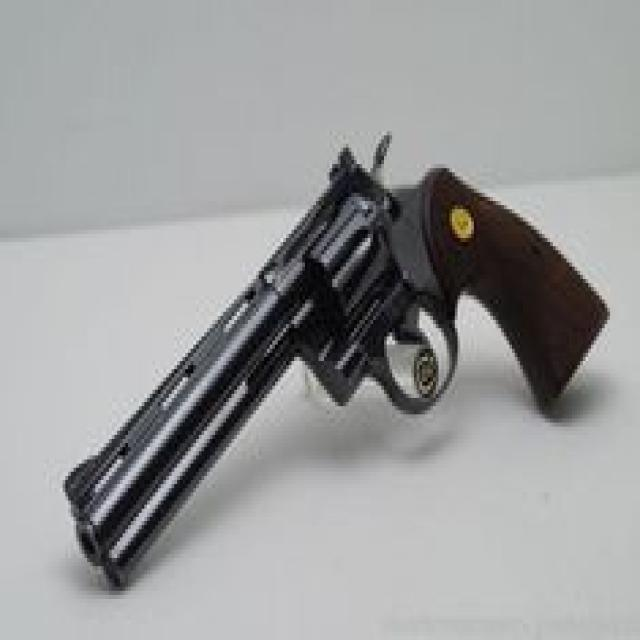revolver: (25, 38, 632, 608)
